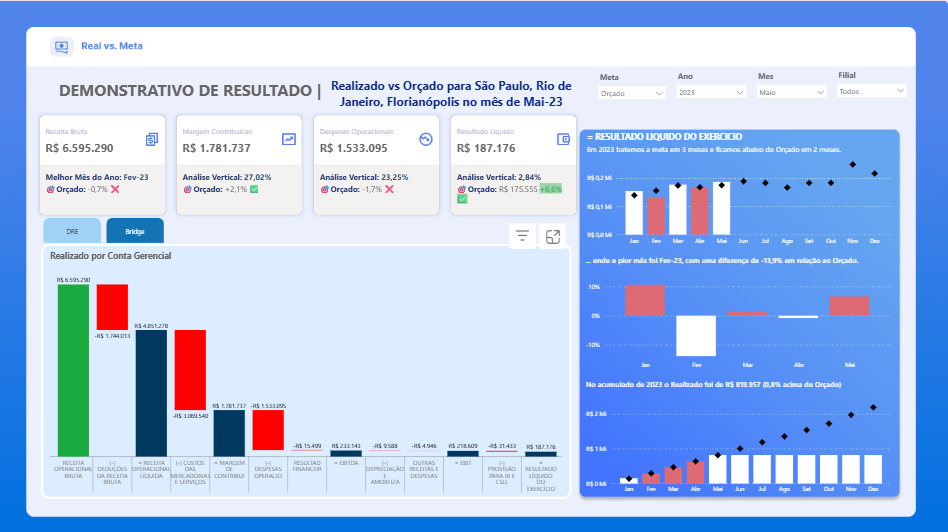

The dashboard page shown, as its layout file describes it:
{"tool":"powerbi","page":{"name":"DRE","canvas":[1920,1080],"ordinal":0},"visuals":[{"type":"pivotTable","fields":{"Rows":["dEstruturaDRE.contaGerencial","dPlanoConta.descricaoN1","dPlanoConta.descricaoN2"],"Values":["MEDIDAS.KPI Flag","MEDIDAS.Realizado","MEDIDAS.R$ Meta","MEDIDAS.% Meta vs Realizado","MEDIDAS.Realizado YTD","MEDIDAS.Meta YTD","MEDIDAS.% Meta vs Realizado YTD"],"Columns":["dCalendario.NomeMes"]},"box":[87.2,502.1,1083,500],"z":0},{"type":"slicer","fields":{"Values":["dCalendario.AnoAtual"]},"box":[1362.5,135,162.5,80],"z":1000},{"type":"slicer","fields":{"Values":["dCalendario.MesAtual"]},"box":[1525,135,162.5,85],"z":2000},{"type":"slicer","fields":{"Values":["dEstruturaDRE.empresa"]},"box":[1686.7,133.9,162.2,82.2],"z":3000},{"type":"slicer","fields":{"Values":["AuxMeta.AuxMeta"]},"box":[1205,137.5,157.5,82.5],"z":4000},{"type":"cardVisual","fields":{"Data":["MEDIDAS.R$ Realizado RC Bruta","MEDIDAS.R$ Realizado Margem Contribuicao","MEDIDAS.R$ Realizado Despesas","MEDIDAS.Realizado"]},"box":[68.3,213.3,1118.3,235],"z":5000},{"type":"lineStackedColumnComboChart","fields":{"Y":["MEDIDAS.Realizado"],"Category":["dCalendario.MesAbre"],"Y2":["MEDIDAS.R$ Meta"]},"box":[1186.2,262.5,626.2,240],"z":6000},{"type":"lineStackedColumnComboChart","fields":{"Category":["dCalendario.MesAbre"],"Y":["MEDIDAS.% Meta vs Realizado"]},"box":[1185,513.1,626.2,240],"z":7000},{"type":"lineStackedColumnComboChart","fields":{"Category":["dCalendario.MesAbre"],"Y":["MEDIDAS.Realizado YTD"],"Y2":["MEDIDAS.Meta YTD"]},"box":[1185,763.8,626.2,240],"z":8000},{"type":"textbox","box":[120,150,558,66],"z":9000},{"type":"actionButton","box":[663.3,135,506.7,101.7],"z":10000},{"type":"bookmarkNavigator","box":[93.3,436.7,245,51.7],"z":11001}]}

Visuals, with their boxes in screenshot pixels (x1, y1, x2, y2), scaled from the page's 1920x1080 canvas onto the 948x532 screenshot:
pivotTable - dEstruturaDRE.contaGerencial x dPlanoConta.descricaoN1: <region>43, 247, 578, 494</region>
slicer - dCalendario.AnoAtual: <region>673, 66, 753, 106</region>
slicer - dCalendario.MesAtual: <region>753, 66, 833, 108</region>
slicer - dEstruturaDRE.empresa: <region>833, 66, 913, 106</region>
slicer - AuxMeta.AuxMeta: <region>595, 68, 673, 108</region>
cardVisual - MEDIDAS.R$ Realizado RC Bruta x MEDIDAS.R$ Realizado Margem Contribuicao: <region>34, 105, 586, 221</region>
lineStackedColumnComboChart - MEDIDAS.Realizado x dCalendario.MesAbre: <region>586, 129, 895, 248</region>
lineStackedColumnComboChart - dCalendario.MesAbre x MEDIDAS.% Meta vs Realizado: <region>585, 253, 894, 371</region>
lineStackedColumnComboChart - dCalendario.MesAbre x MEDIDAS.Realizado YTD: <region>585, 376, 894, 494</region>
textbox: <region>59, 74, 335, 106</region>
actionButton: <region>328, 66, 578, 117</region>
bookmarkNavigator: <region>46, 215, 167, 241</region>
